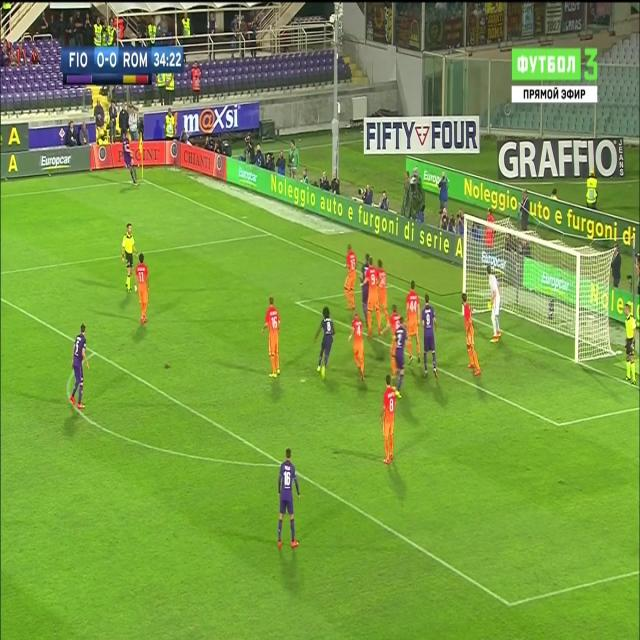Goalkeeper: (482, 262, 504, 346)
Player: (274, 449, 301, 553), (460, 292, 485, 380), (66, 323, 90, 412), (262, 294, 284, 380), (378, 378, 398, 469), (420, 292, 440, 380), (315, 304, 337, 379), (391, 318, 409, 401), (363, 255, 381, 337), (348, 312, 367, 385), (379, 304, 399, 372), (405, 278, 420, 366), (134, 252, 151, 328), (375, 256, 391, 334), (344, 243, 359, 312), (359, 252, 372, 324), (122, 130, 138, 186)
Referee: (622, 303, 640, 385), (120, 220, 137, 298)
